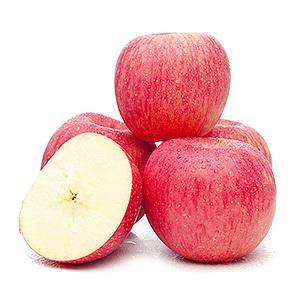apple: (144, 135, 276, 263), (114, 33, 230, 143)
